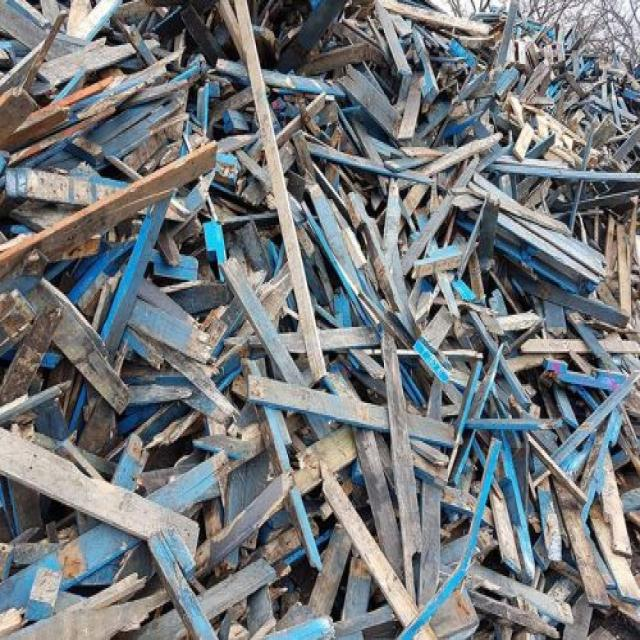green waste: (2, 4, 635, 631)
